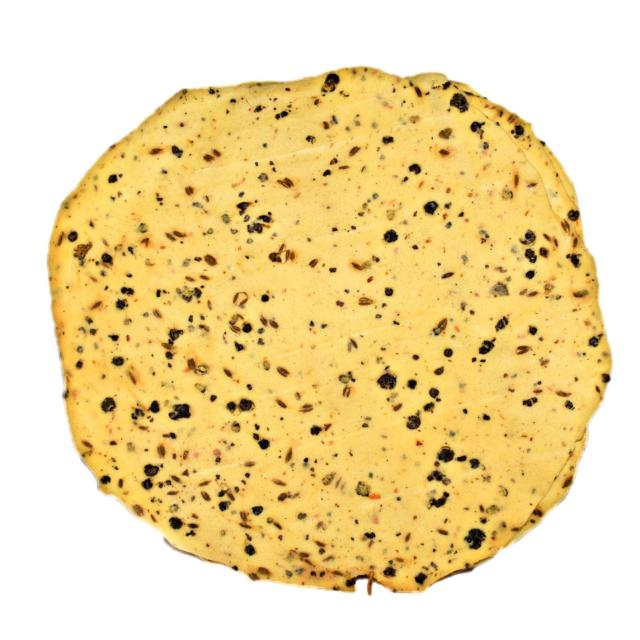papad: (52, 66, 601, 594)
